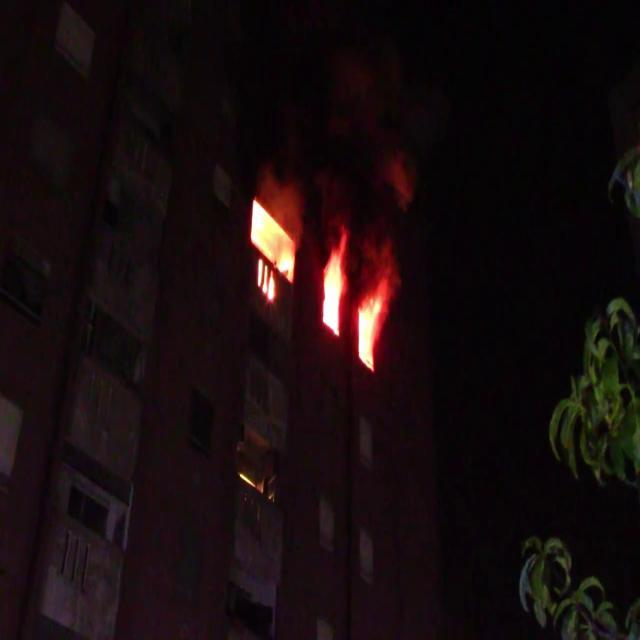Fire: (244, 183, 302, 305), (355, 266, 391, 372), (318, 224, 348, 340)
